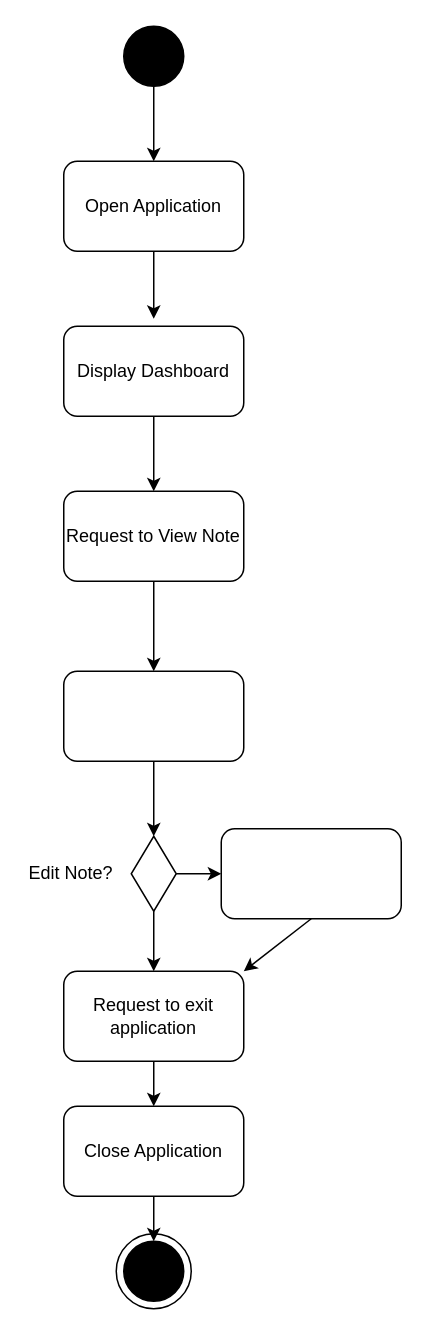
This 428x1335 diagram has some shape labels left out. Each missing label, with the box of its shape:
Display Selected Note: (62, 670, 244, 761)
Modify Note: (220, 827, 401, 919)
